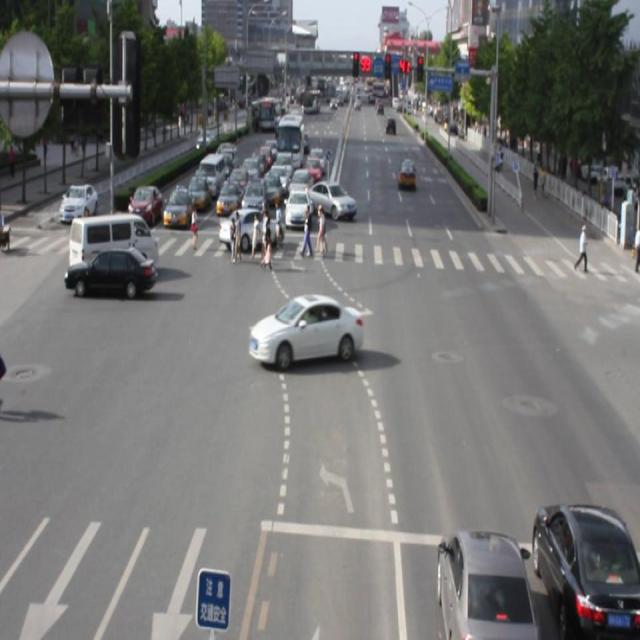car: (523, 495, 640, 640), (429, 524, 530, 640), (248, 291, 363, 366), (65, 243, 157, 297), (218, 205, 283, 250)
truck: (70, 209, 158, 273)
